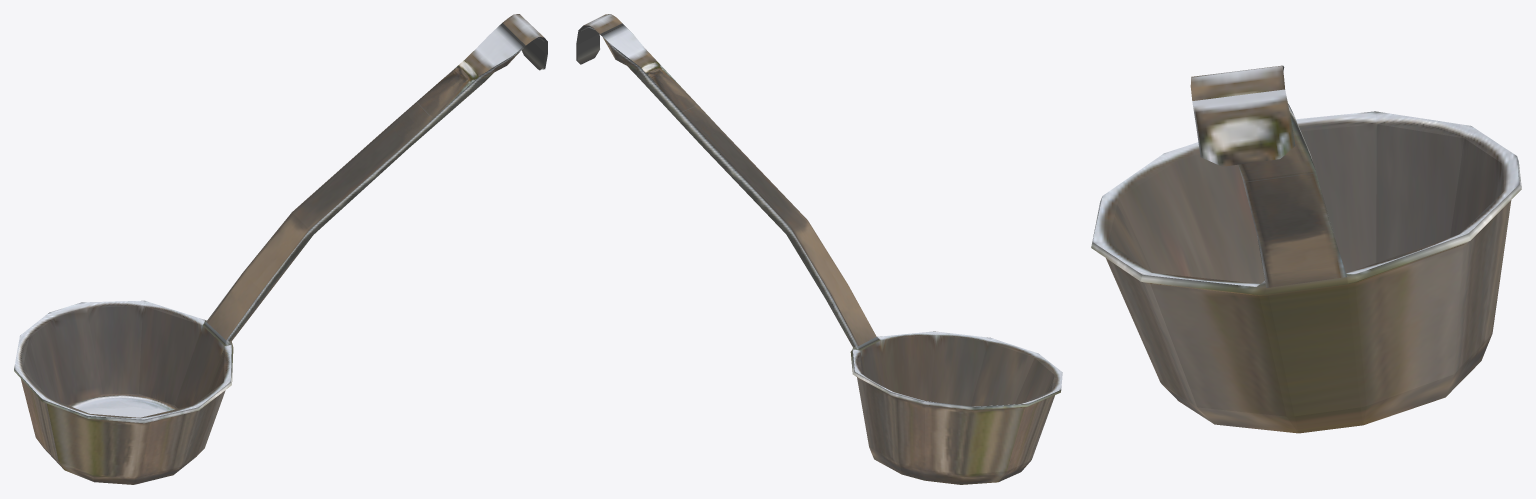
File: ladle.glb
The picture shows the model from 3 angles, left to right: view 1: azimuth 30°, elevation 25°; view 2: azimuth 150°, elevation 25°; view 3: azimuth 270°, elevation 25°; orthographic projection. The views are drawn at different scales.
Parts seen in each view (by area): view 1: Ladle; view 2: Ladle; view 3: Ladle.
Boxes of the visible parts, x1,y1,x2,y2 form: Ladle: [14, 14, 547, 484]; Ladle: [576, 14, 1062, 484]; Ladle: [1091, 65, 1521, 433].
Bounding box in the file's own units: 0.4018 × 0.2765 × 0.1572.
1 material, 1 textured.
